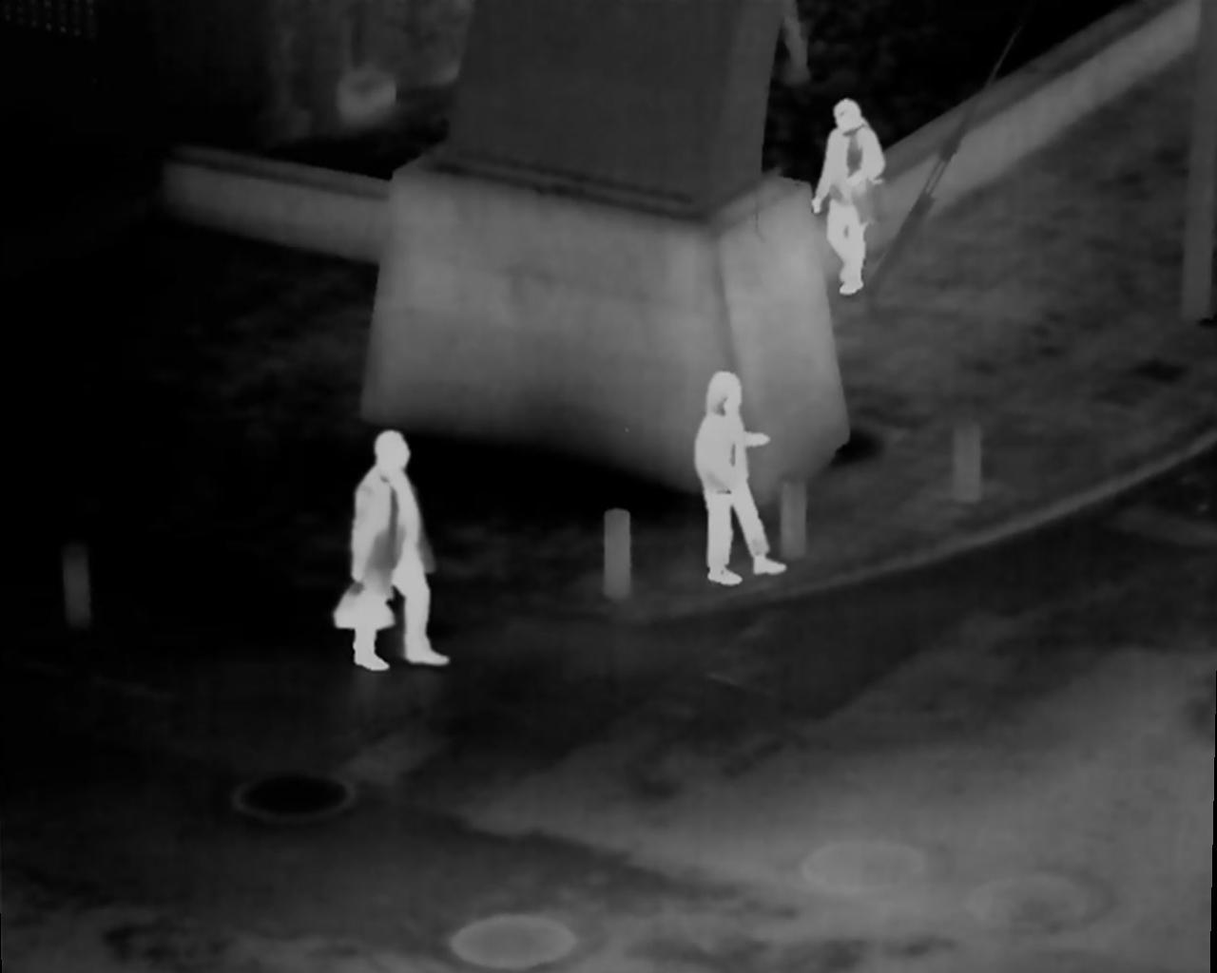person: (335, 428, 448, 673), (691, 372, 784, 591), (808, 95, 883, 297)
